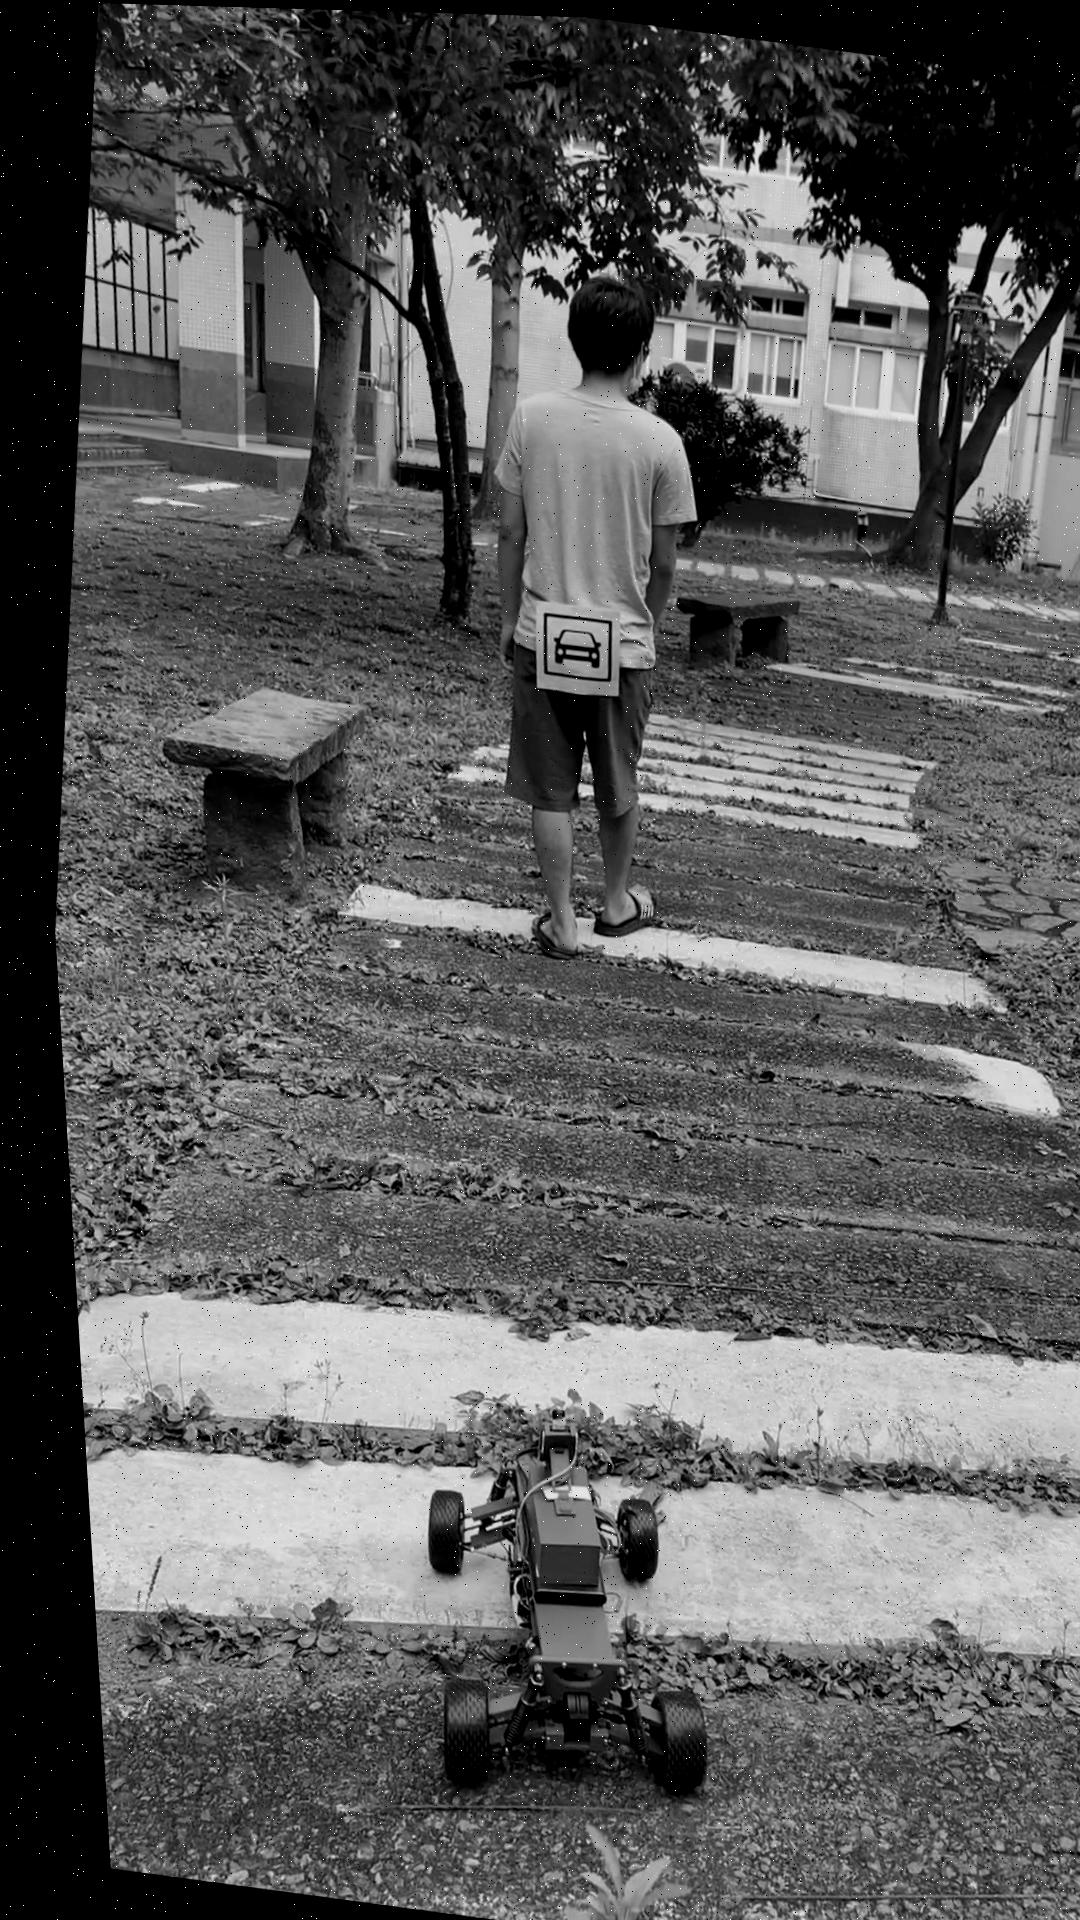car_img: (529, 608, 611, 680)
